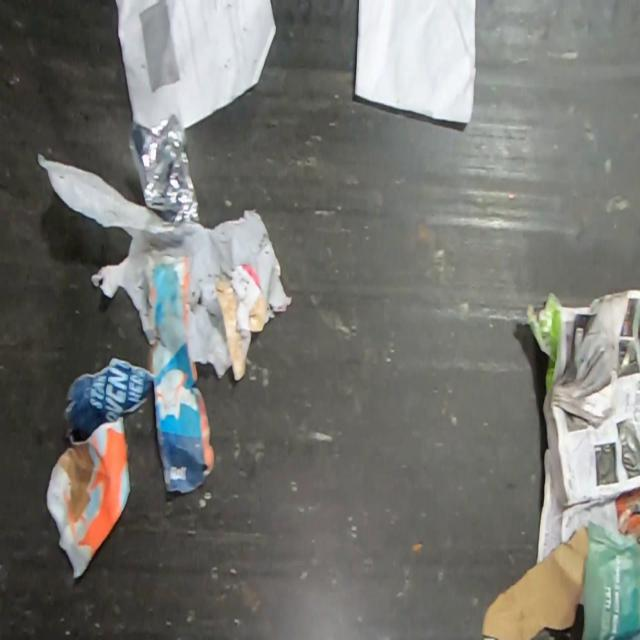cardboard: (481, 524, 591, 639)
metal: (127, 113, 202, 224)
soft_plastic: (37, 152, 292, 378)
